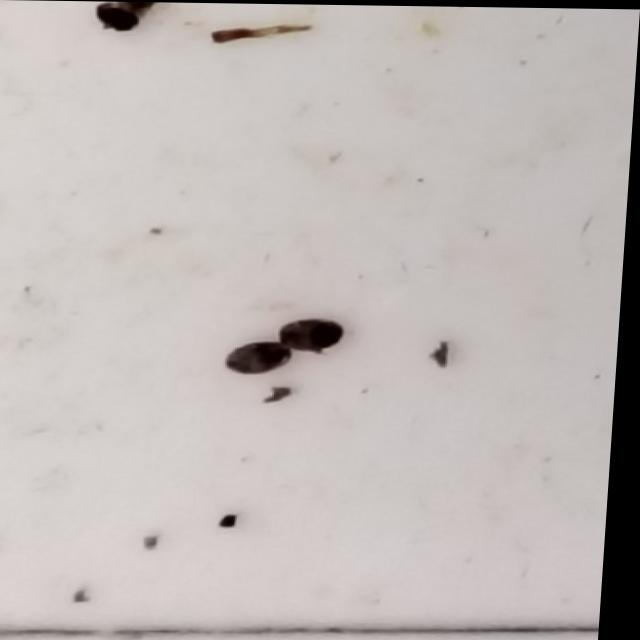varroa: (229, 338, 303, 374), (283, 317, 354, 352), (88, 4, 145, 36)
